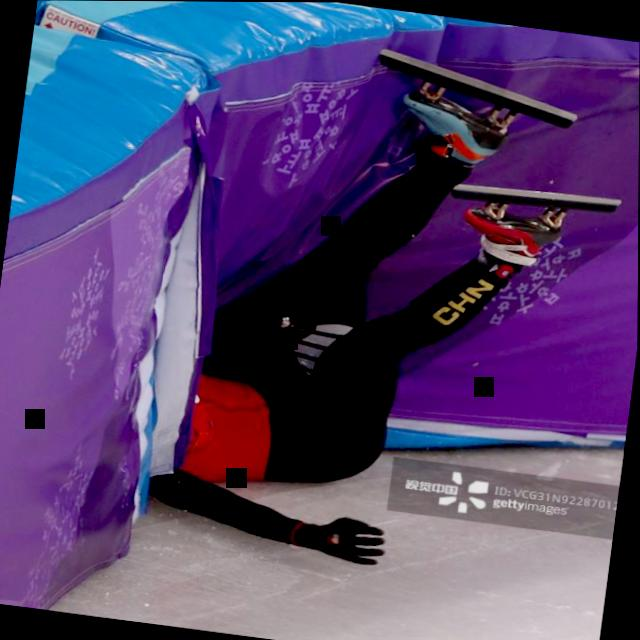Fall-Detected: (0, 0, 640, 601)
